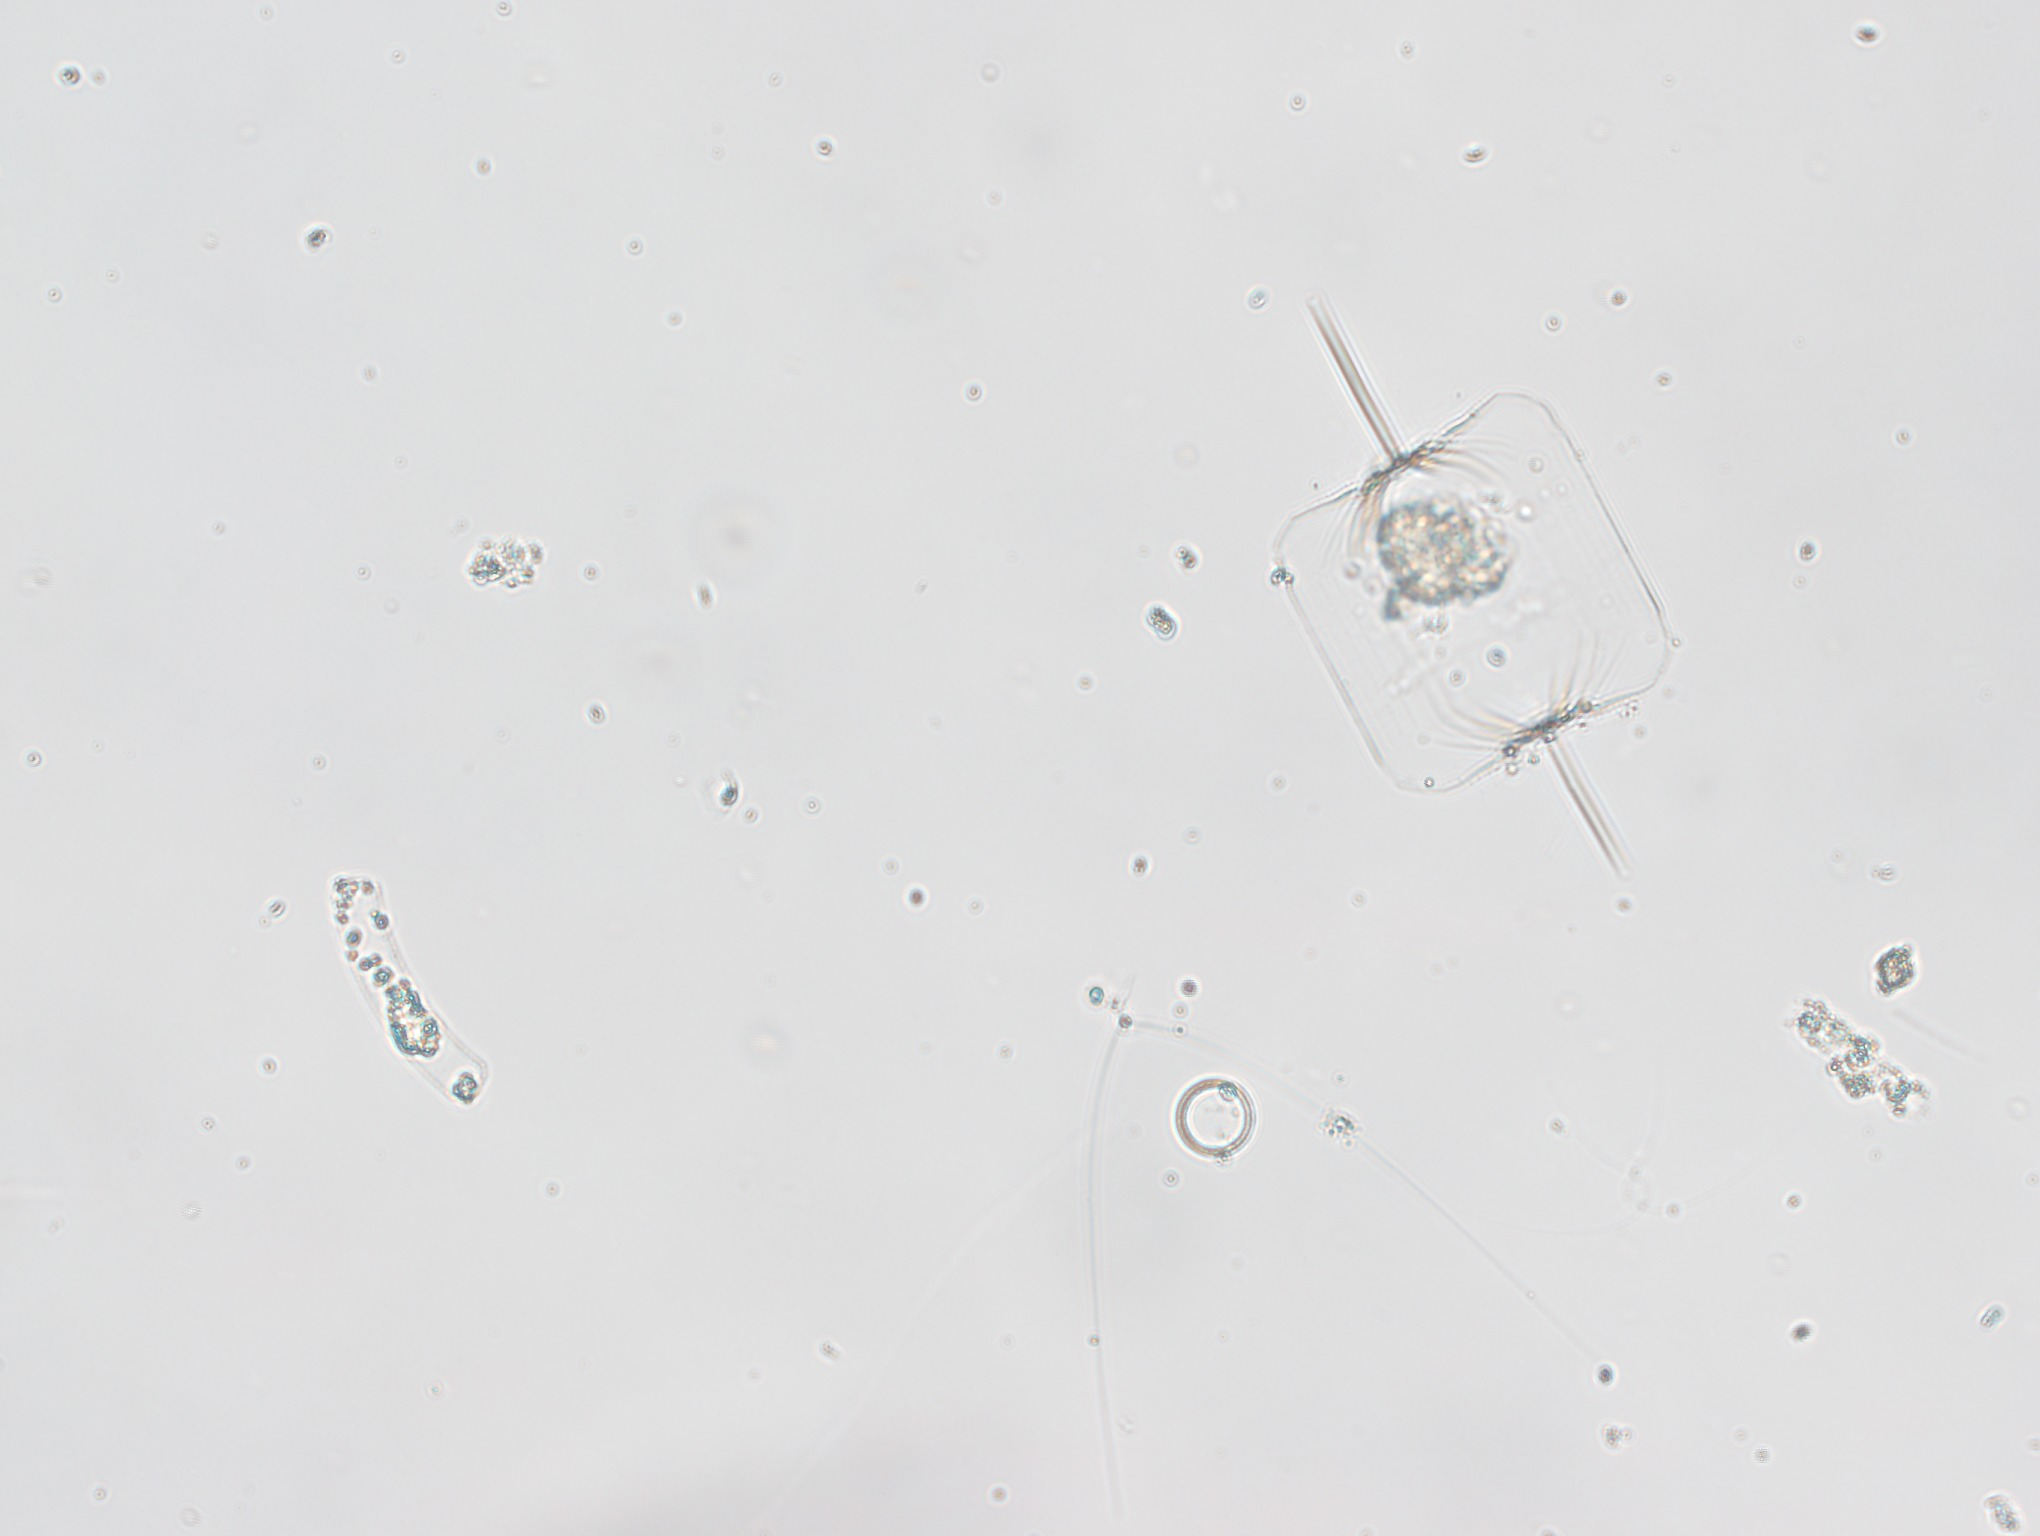ditylum: (1251, 290, 1730, 895)
